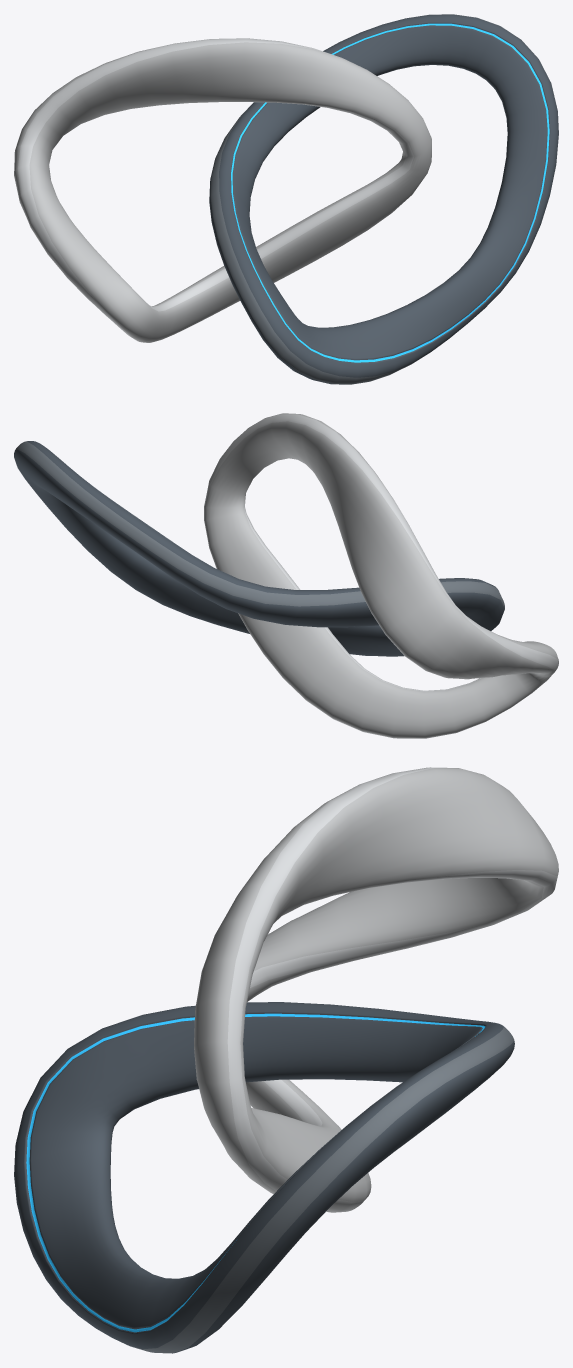
File: infinity-lite.glb
The picture shows the model from 3 angles, top to bottom: view 1: azimuth 30°, elevation 25°; view 2: azimuth 150°, elevation 25°; view 3: azimuth 270°, elevation 25°; orthographic projection. The views are drawn at different scales.
Parts seen in each view (by area): view 1: Undertow - smoked chrome, Crest - forged titanium; view 2: Crest - forged titanium, Undertow - smoked chrome; view 3: Undertow - smoked chrome, Crest - forged titanium.
Part boxes in pixels (x1,y1,x2,y2): Undertow - smoked chrome: (209,14,558,384); Crest - forged titanium: (14,38,431,342); Crest - forged titanium: (204,413,558,738); Undertow - smoked chrome: (14,441,504,656); Undertow - smoked chrome: (14,1002,514,1353); Crest - forged titanium: (194,767,558,1212).
Size of the model in its own units: 5.83 by 3.22 by 3.56.
